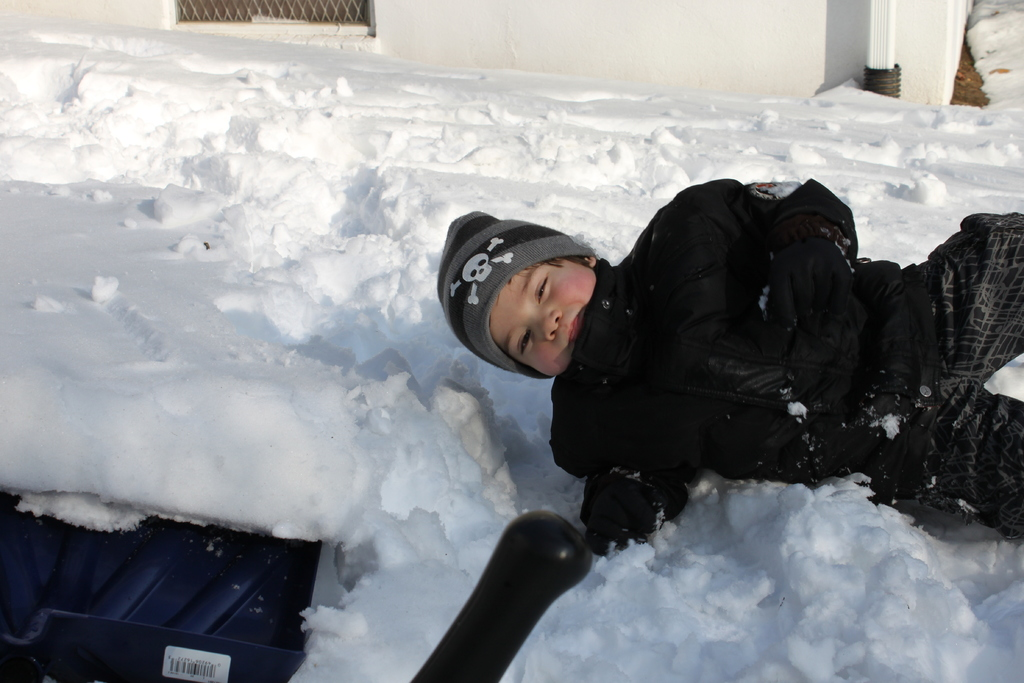Person: (436, 177, 1023, 556)
